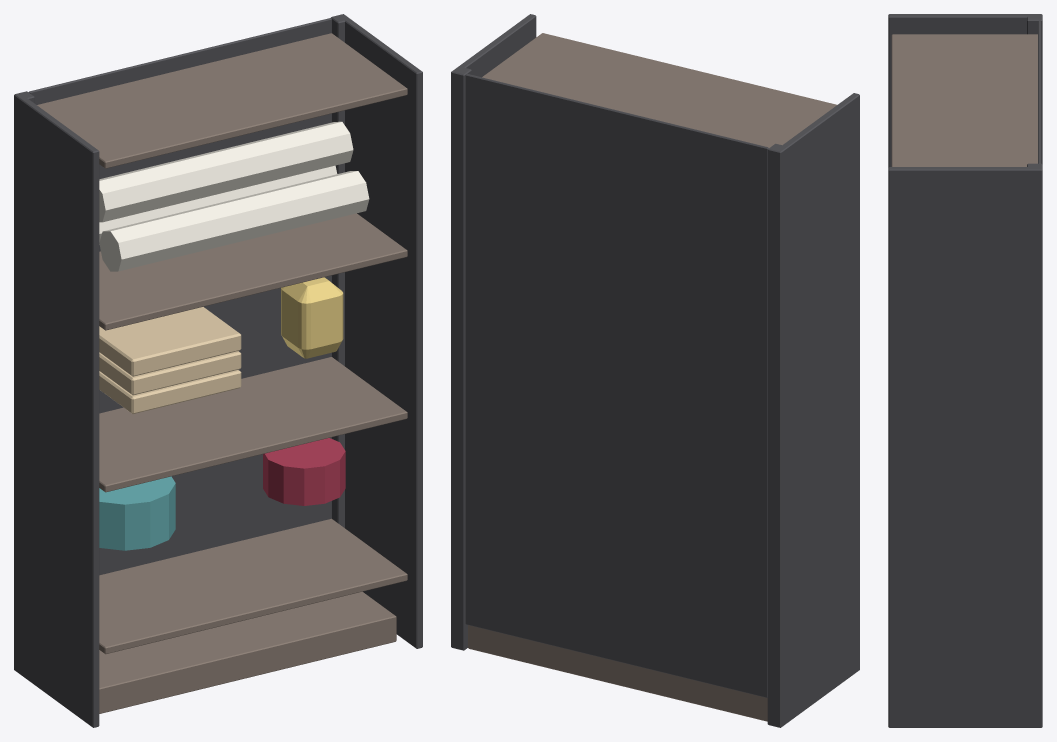
File: theatre-stage-and-backstage-prop-shelf-unit-791c9034.glb
3 renders of one model, left to right at view 1: azimuth 30°, elevation 25°; view 2: azimuth 150°, elevation 25°; view 3: azimuth 270°, elevation 25°, orthographic. The views are drawn at different scales.
Parts seen in each view (by area): view 1: prop-shelf-unit; view 2: prop-shelf-unit; view 3: prop-shelf-unit.
Boxes of the visible parts, x1=… form: prop-shelf-unit: x1=14, y1=14, x2=422, y2=727; prop-shelf-unit: x1=451, y1=14, x2=859, y2=727; prop-shelf-unit: x1=888, y1=14, x2=1042, y2=727.
Bounding box in the file's own units: 1.2 × 2 × 0.5001.
